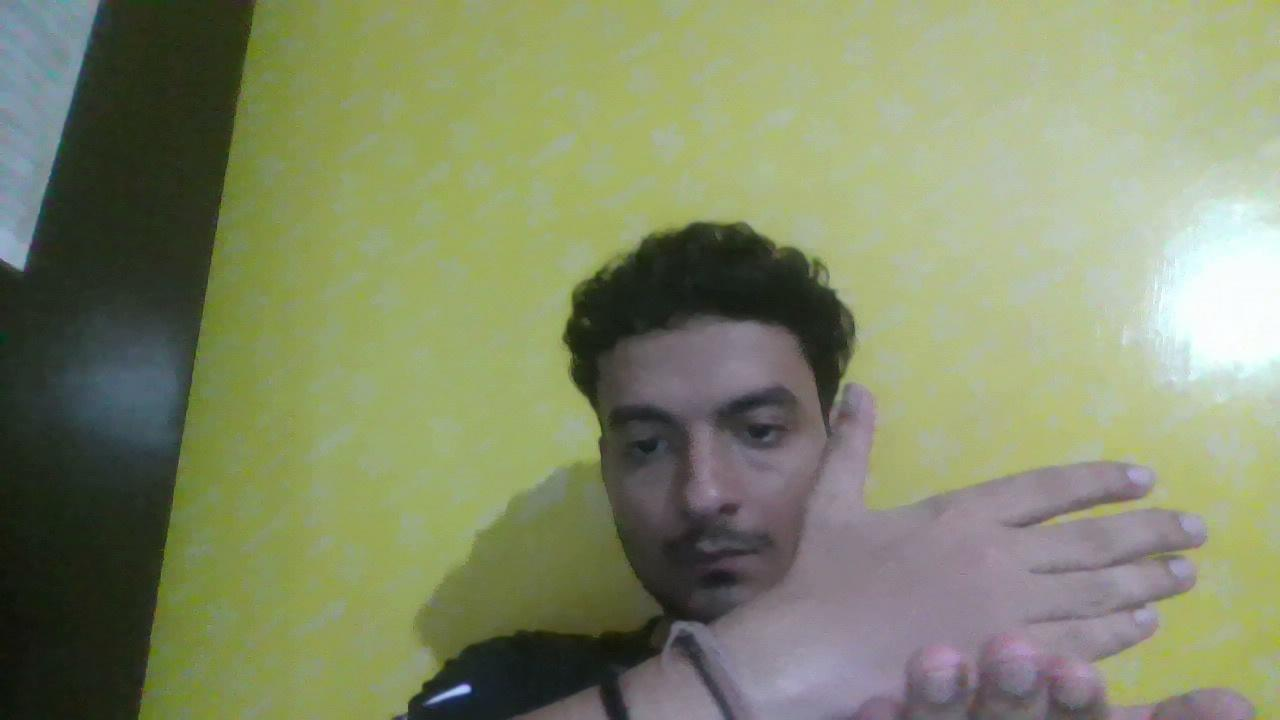stop: (758, 354, 1253, 720)
